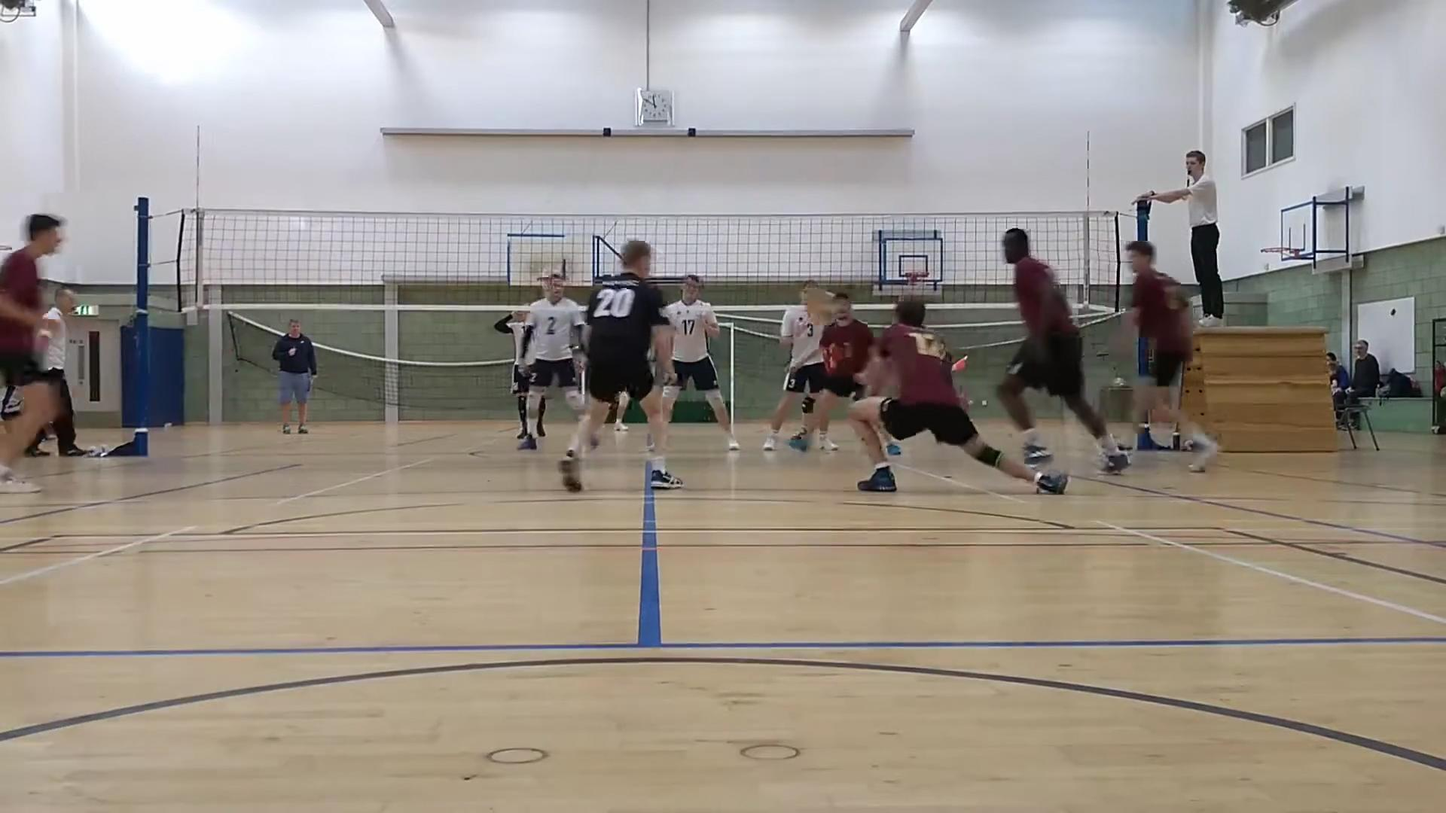ricezione: (845, 300, 1072, 493)
